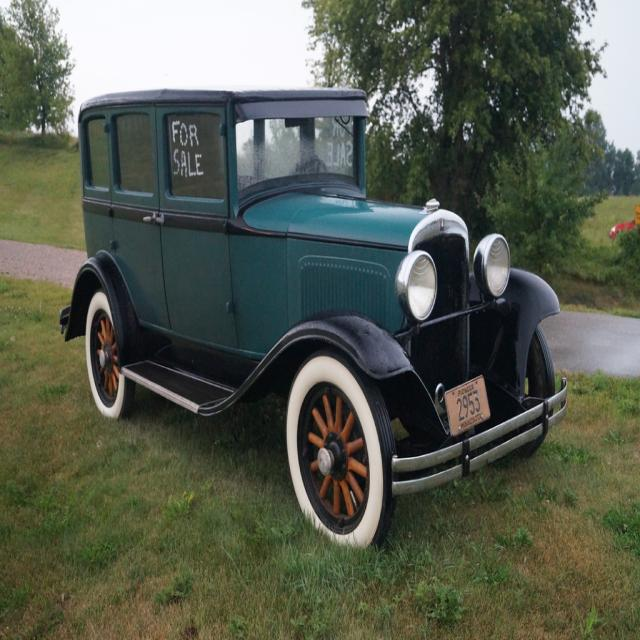car: (58, 86, 566, 555)
